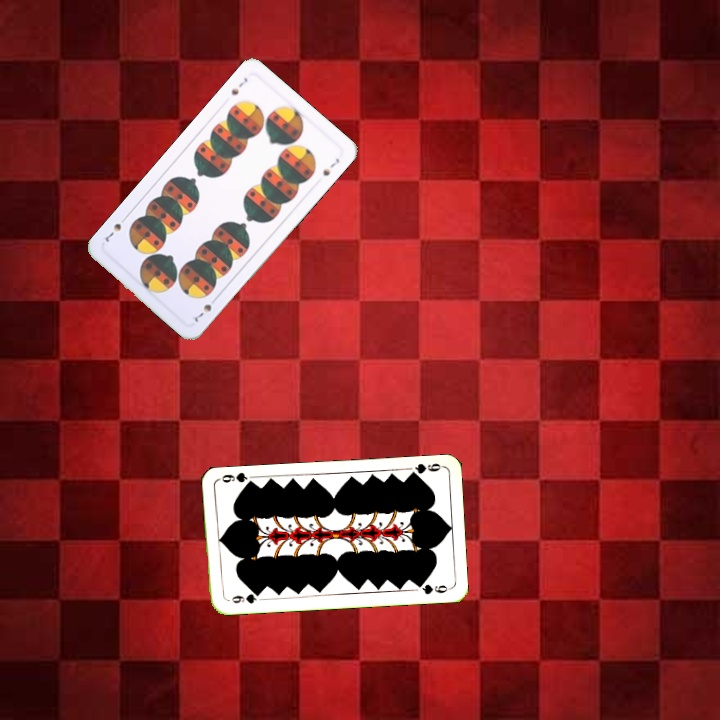G9: (405, 459, 445, 479), (227, 589, 263, 606)
S7: (190, 293, 220, 325), (227, 73, 250, 98)
